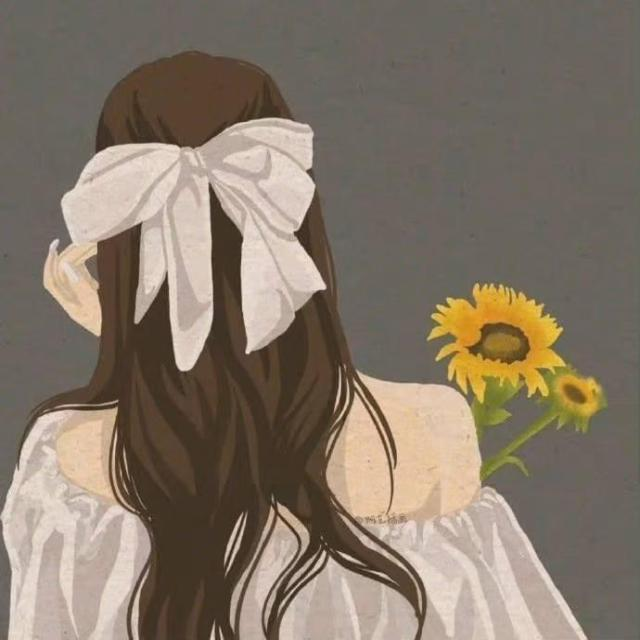sunflower: (426, 281, 566, 404), (552, 375, 603, 415)
